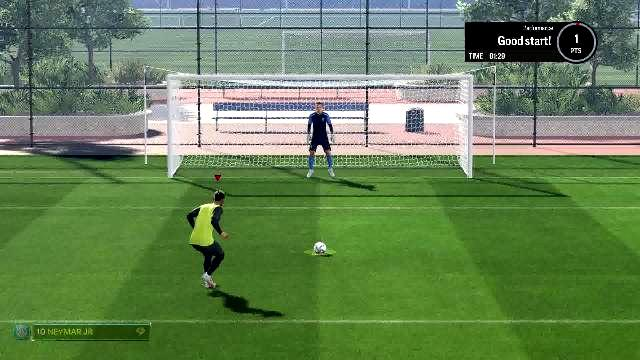bottom-left: (174, 129, 268, 177)
bottom-right: (370, 130, 468, 176)
center-down: (271, 130, 367, 176)
center-up: (271, 81, 369, 131)
circle: (306, 250, 336, 256)
football: (312, 241, 328, 255)
goalkeeper: (303, 100, 342, 180)
player: (182, 187, 232, 298)
top-left: (174, 82, 268, 130)
top-right: (369, 82, 467, 130)
